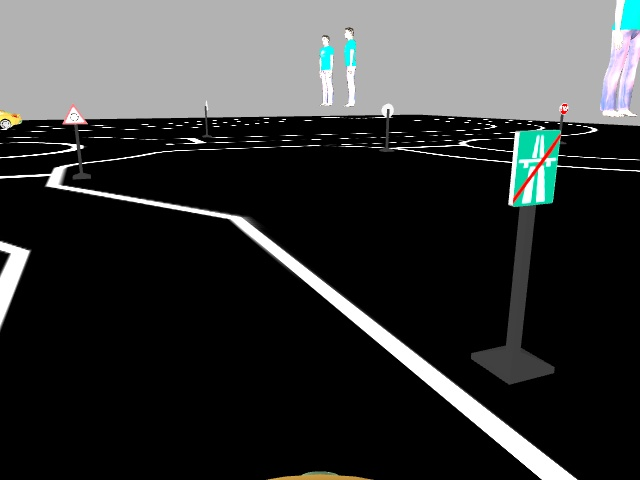HighwayExit: (507, 130, 558, 206)
